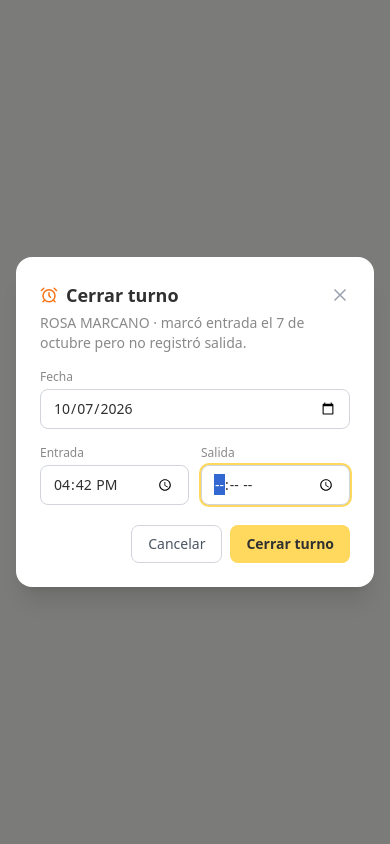
Test: ModalCerrarTurno › una salida a la misma hora que la entrada no es un turno
Type "16:42" into the time field labelled "Salida".
click(276, 485); type("16:42")  # box [201,465,350,505]
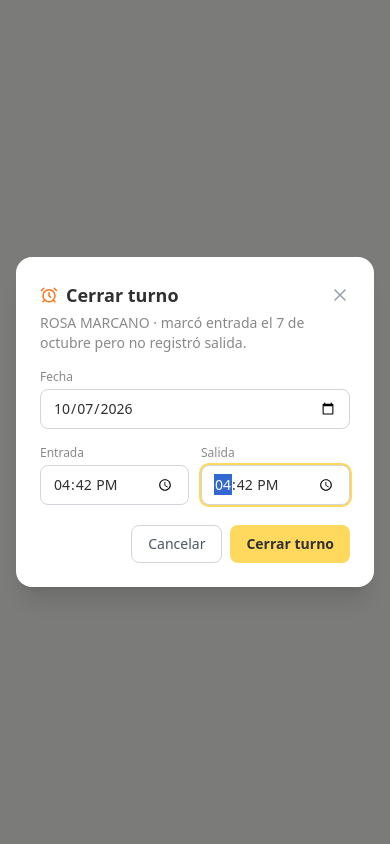
Click the button "Cerrar turno".
click(290, 544)  # box [230,525,350,563]
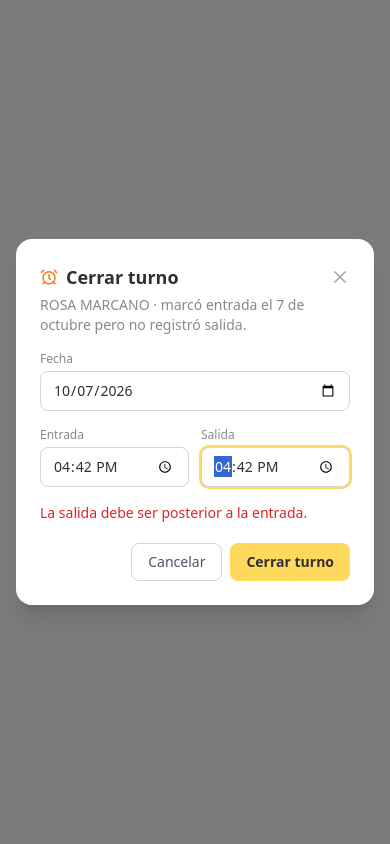
Result: the text "La salida debe ser posterior a la entrada." is shown at [40,503,350,523]
